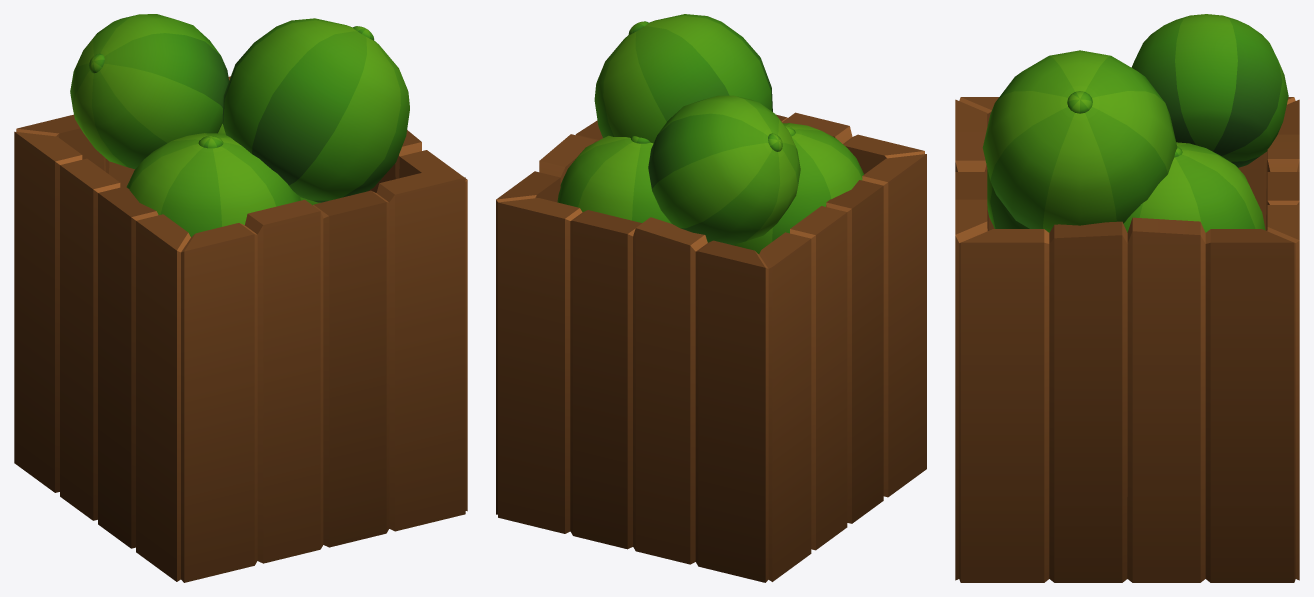
Rendered from Stall-0-3-M.fbx.
The picture shows the model from 3 angles, left to right: view 1: azimuth 30°, elevation 25°; view 2: azimuth 150°, elevation 25°; view 3: azimuth 270°, elevation 25°; orthographic projection. The views are drawn at different scales.
Parts seen in each view (by area): view 1: Stall-0-3-M; view 2: Stall-0-3-M; view 3: Stall-0-3-M.
Boxes of the visible parts, x1,y1,x2,y2 form: Stall-0-3-M: (14, 14, 467, 582); Stall-0-3-M: (496, 14, 926, 582); Stall-0-3-M: (955, 14, 1299, 582).
Bounding box in the file's own units: 142 × 217 × 142.
